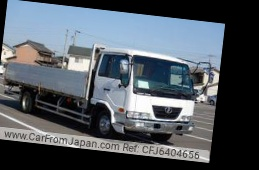car: (207, 94, 217, 106)
